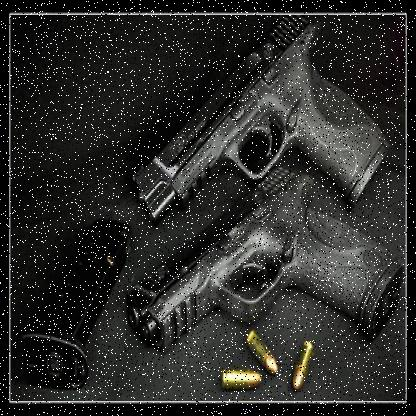pistol: (126, 16, 390, 233), (126, 165, 401, 357)
